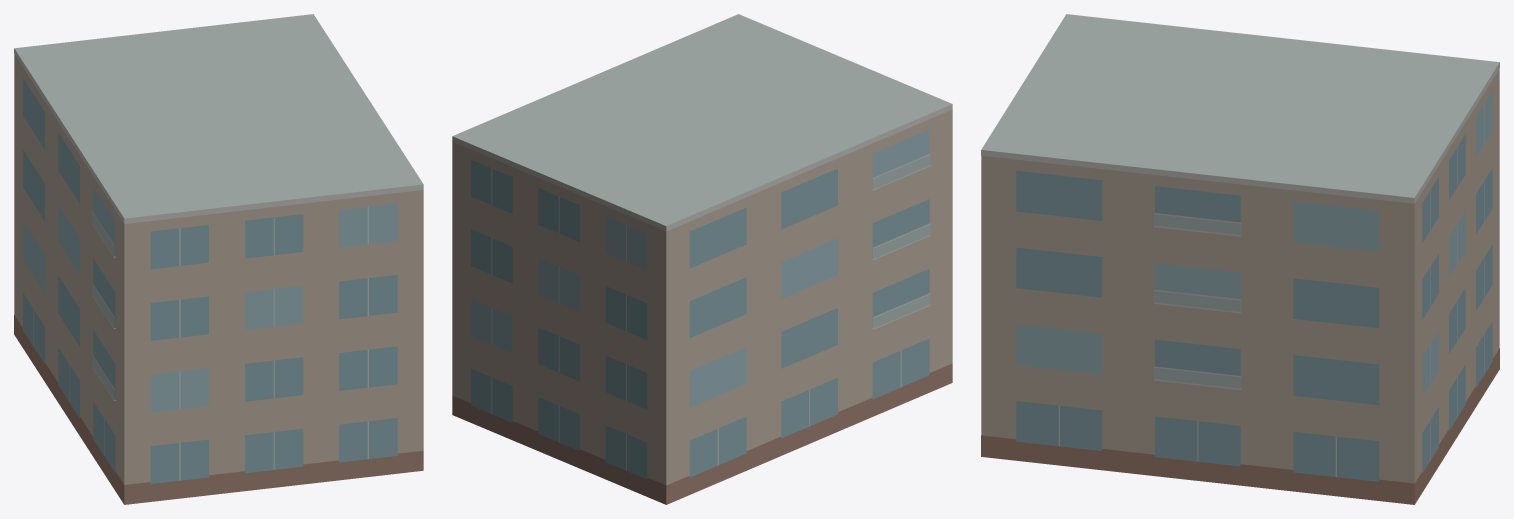
File: survey-upis-32668401.glb
3 renders of one model, left to right at view 1: azimuth 30°, elevation 25°; view 2: azimuth 150°, elevation 25°; view 3: azimuth 270°, elevation 25°, orthographic. The views are drawn at different scales.
Parts seen in each view (by area): view 1: survey-upis-32668401.tmp; view 2: survey-upis-32668401.tmp; view 3: survey-upis-32668401.tmp.
Part boxes in pixels (x1,y1,x2,y2): survey-upis-32668401.tmp: (14, 14, 423, 504); survey-upis-32668401.tmp: (452, 14, 952, 504); survey-upis-32668401.tmp: (981, 14, 1499, 504).
Size of the model in its own units: 16.46 by 12.8 by 19.61.
